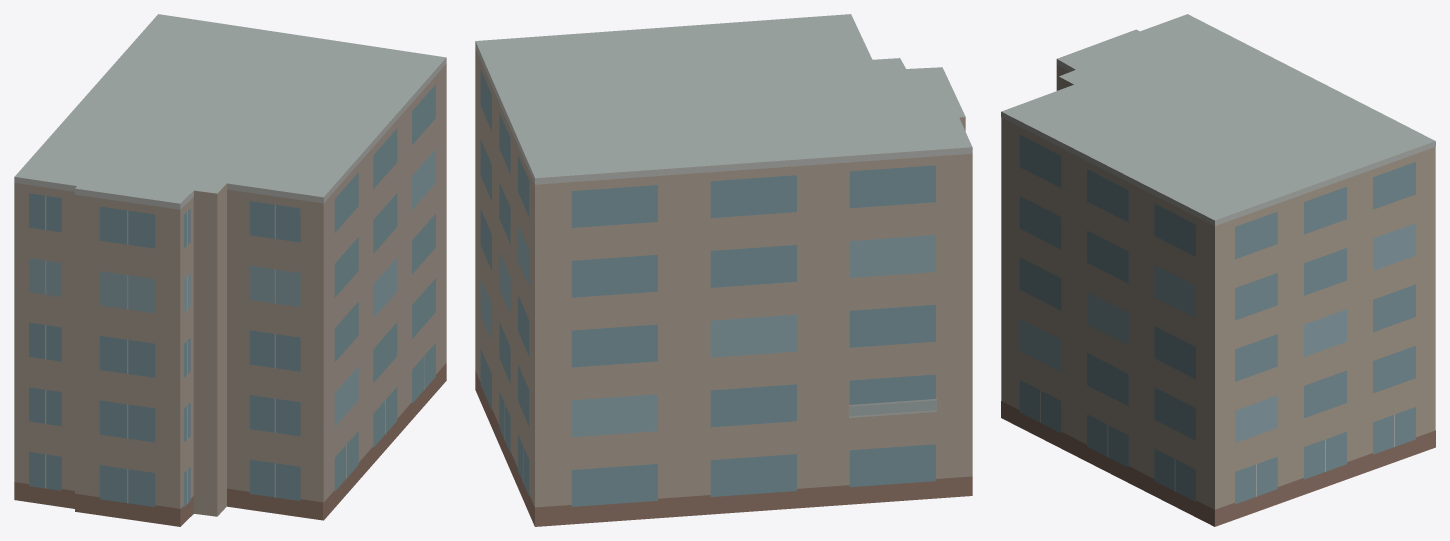
Rendered from survey-upis-32949879.glb.
3 views of the same model, side by side, from view 1: azimuth 30°, elevation 25°; view 2: azimuth 150°, elevation 25°; view 3: azimuth 270°, elevation 25° (orthographic). The views are drawn at different scales.
Parts seen in each view (by area): view 1: survey-upis-32949879.tmp; view 2: survey-upis-32949879.tmp; view 3: survey-upis-32949879.tmp.
Part boxes in pixels (x1,y1,x2,y2): survey-upis-32949879.tmp: (14, 14, 446, 526); survey-upis-32949879.tmp: (475, 14, 972, 526); survey-upis-32949879.tmp: (1001, 14, 1435, 526).
Bounding box in the file's own units: 18.95 × 13.1 × 16.85.
